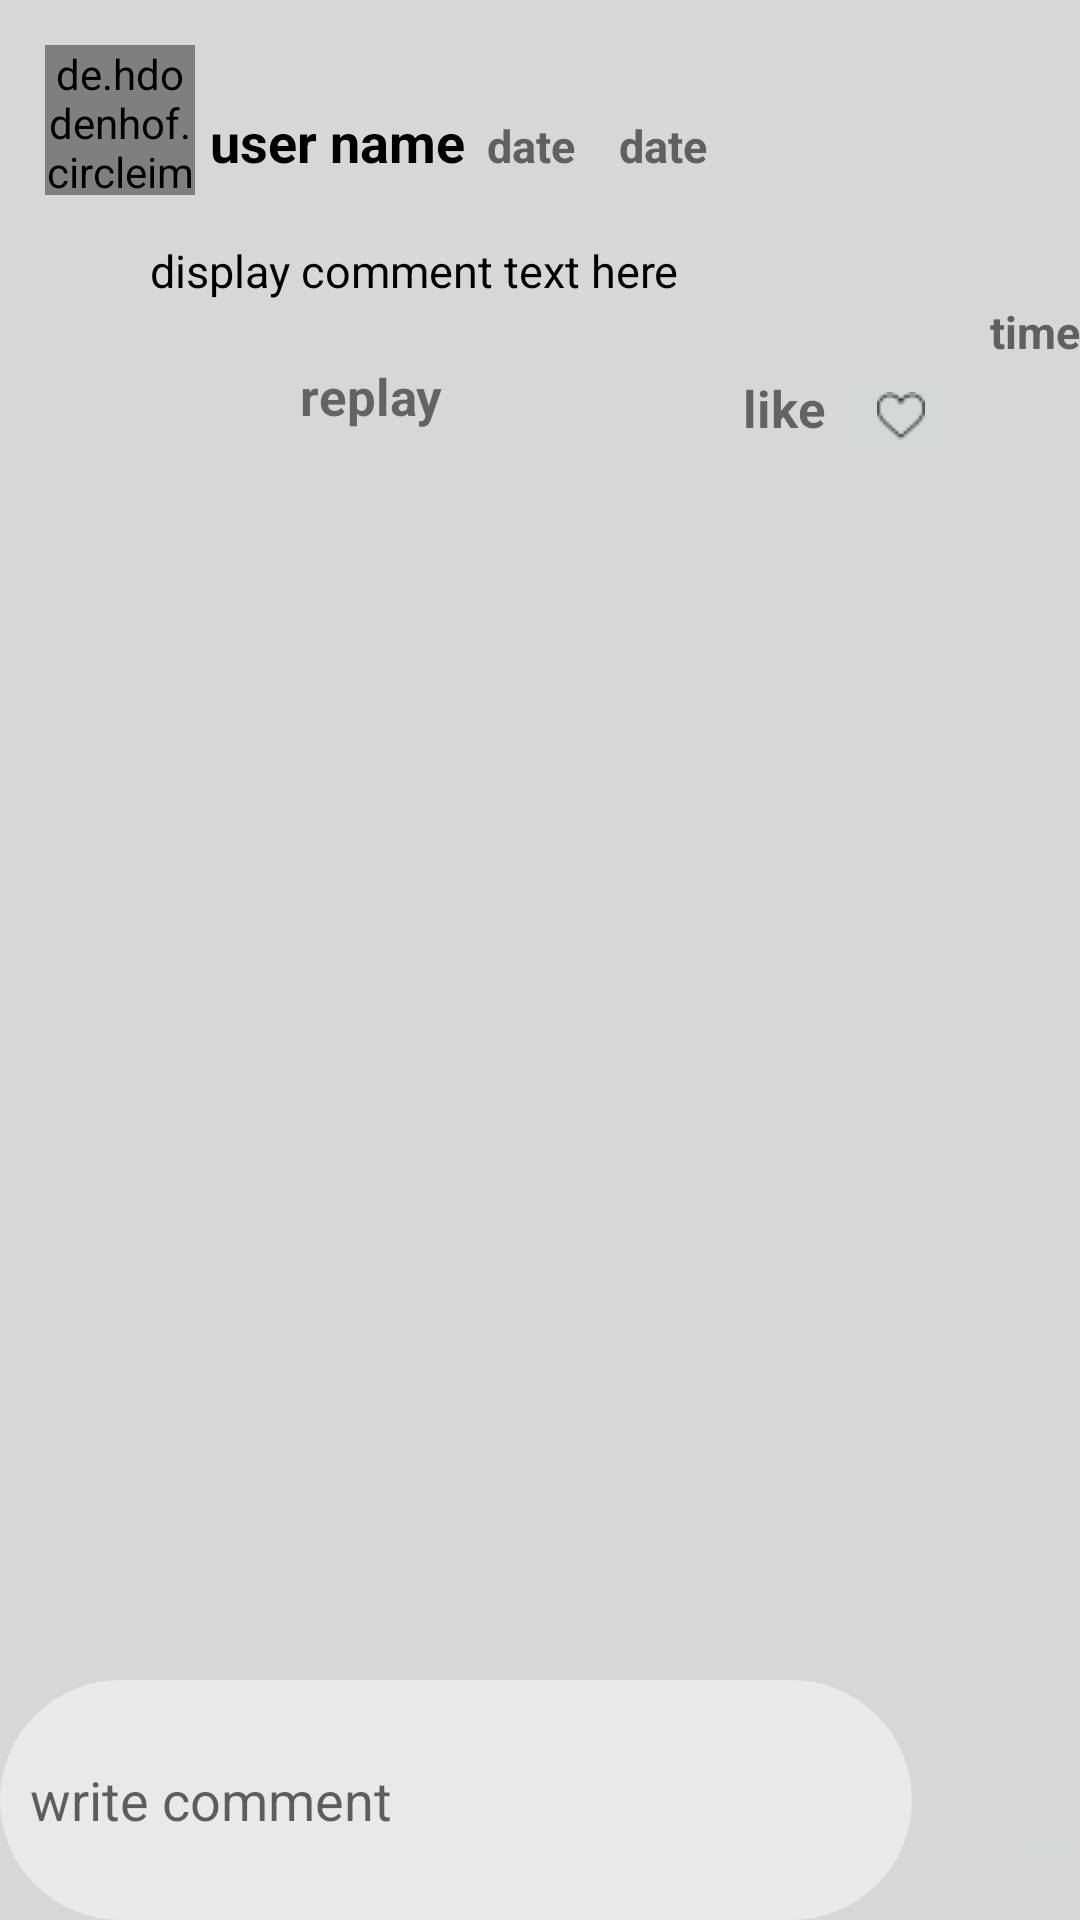

Icons on this 1080×1920 Android screen, each with its box as BBox(x1, y1, x2, y2):
smallheart: BBox(877, 392, 925, 440)
